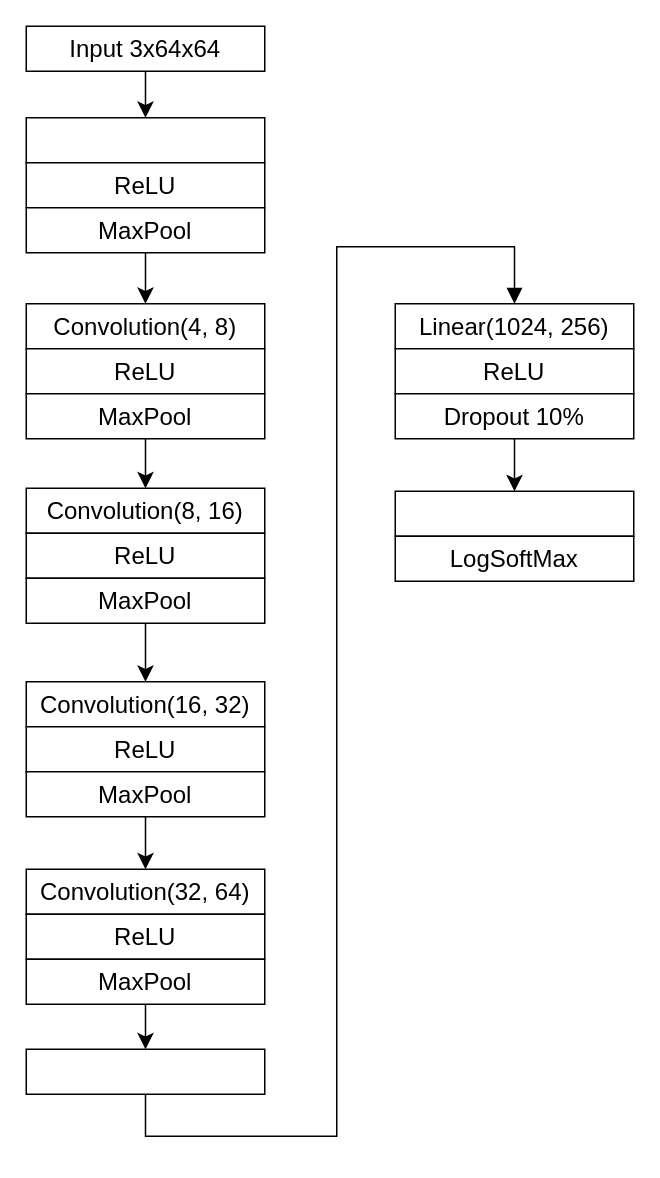
The diagram is 660 pixels wide and 1178 high, and some of its shapes have lost their labels. The centre of each missing label's shape, as x and y in pixels:
"Convolution(3, 4)" goes at [145,139].
"Flatten" goes at [145,1071].
"Linear(256, 2)" goes at [514,513].
